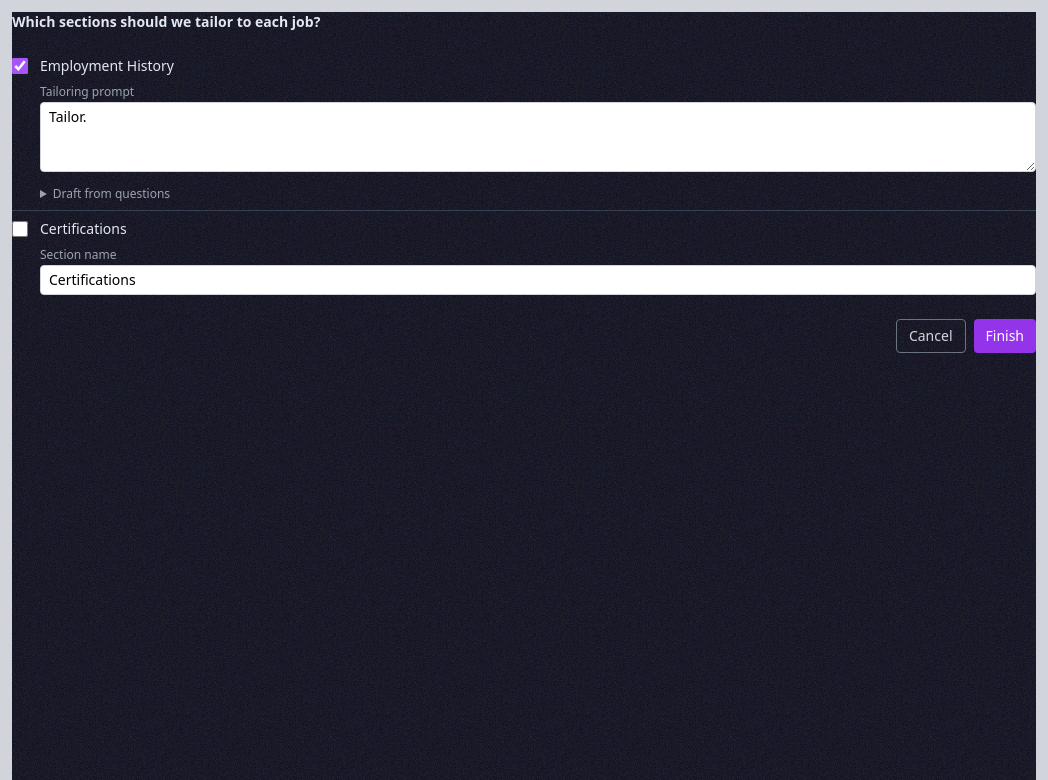
Test: checking a section reveals its prompt editor
What coordinates should you click on to do the following:
click the checkbox labelled "Certifications"
I would click on:
 (20, 229)
Its box is [12,221,28,237].
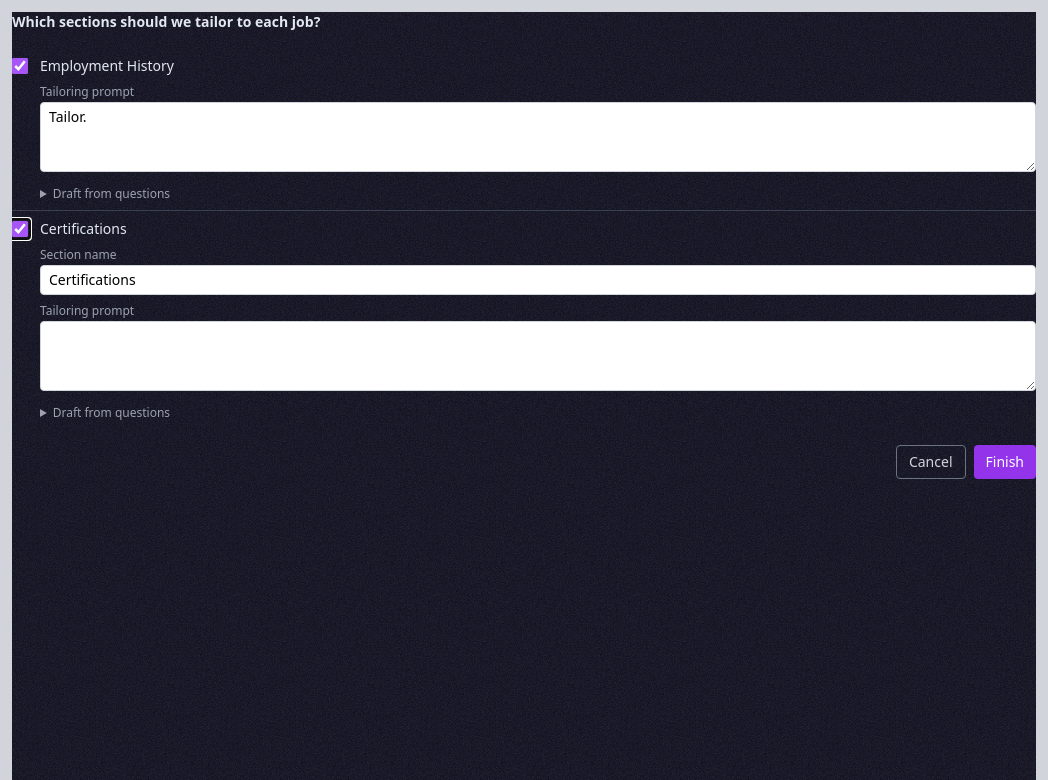
Check: the text box below "Section name" is shown, box [40,321,1036,391]
